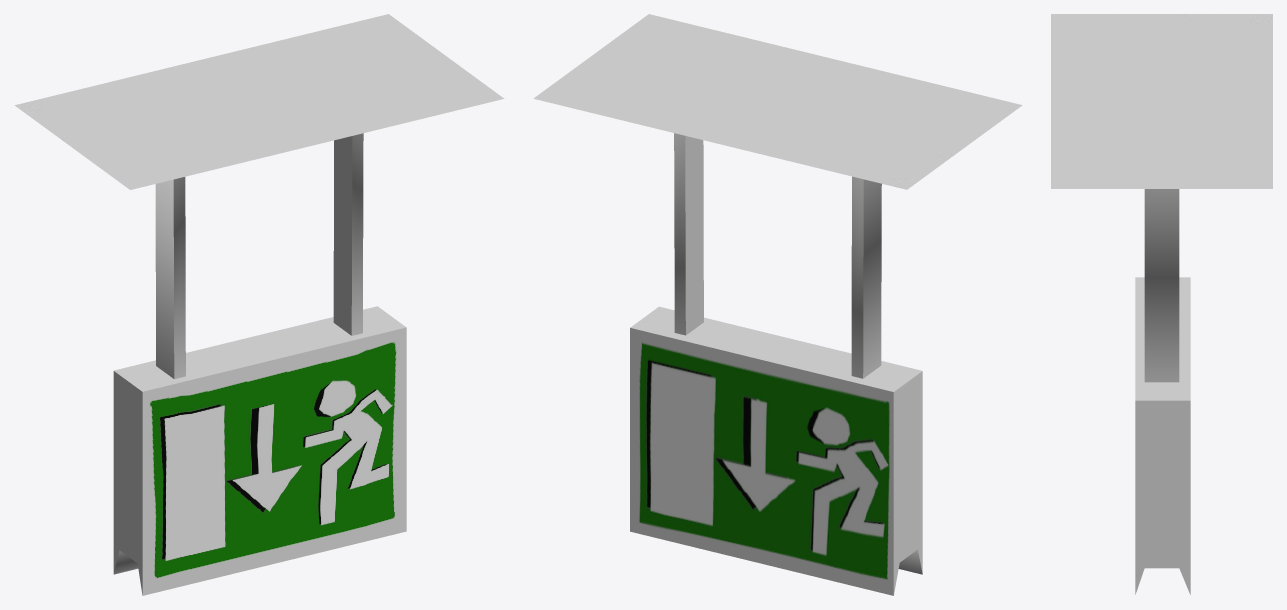
File: Exit_Shield.fbx
3 views of the same model, side by side, from view 1: azimuth 30°, elevation 25°; view 2: azimuth 150°, elevation 25°; view 3: azimuth 270°, elevation 25° (orthographic). The views are drawn at different scales.
Parts seen in each view (by area): view 1: pCube1; view 2: pCube1; view 3: pCube1.
Boxes of the visible parts, x1,y1,x2,y2 form: pCube1: (15, 14, 504, 595); pCube1: (533, 14, 1022, 595); pCube1: (1051, 14, 1272, 594).
Bounding box in the file's own units: 33.03 × 38.09 × 17.71.
Materials: 1 (1 with a texture image).
